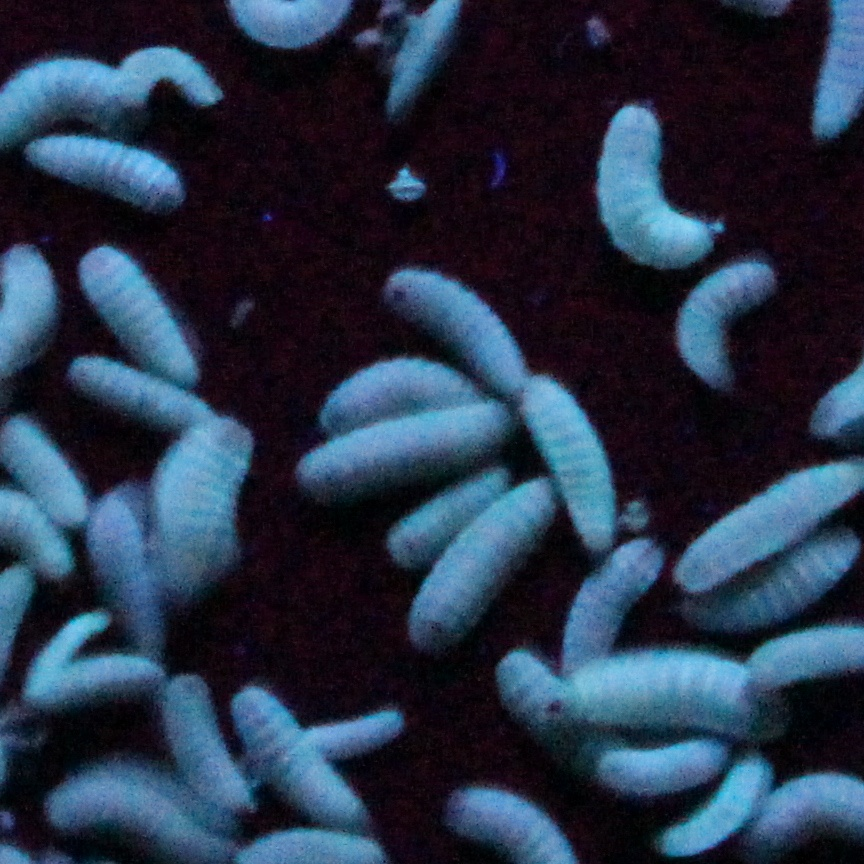larve: (226, 678, 371, 828), (519, 371, 635, 548), (599, 94, 712, 275), (292, 398, 503, 494), (385, 262, 535, 396), (153, 412, 258, 587), (551, 657, 767, 741), (78, 246, 203, 387), (74, 482, 176, 646), (51, 764, 219, 862), (19, 128, 194, 214), (671, 262, 789, 389), (162, 673, 258, 828), (651, 757, 771, 862), (314, 357, 494, 423), (67, 341, 212, 421), (380, 478, 508, 566), (687, 548, 858, 612), (564, 532, 655, 650), (110, 41, 226, 119), (494, 644, 585, 730), (589, 744, 739, 794), (28, 621, 114, 687), (296, 707, 417, 753), (51, 655, 162, 694)
